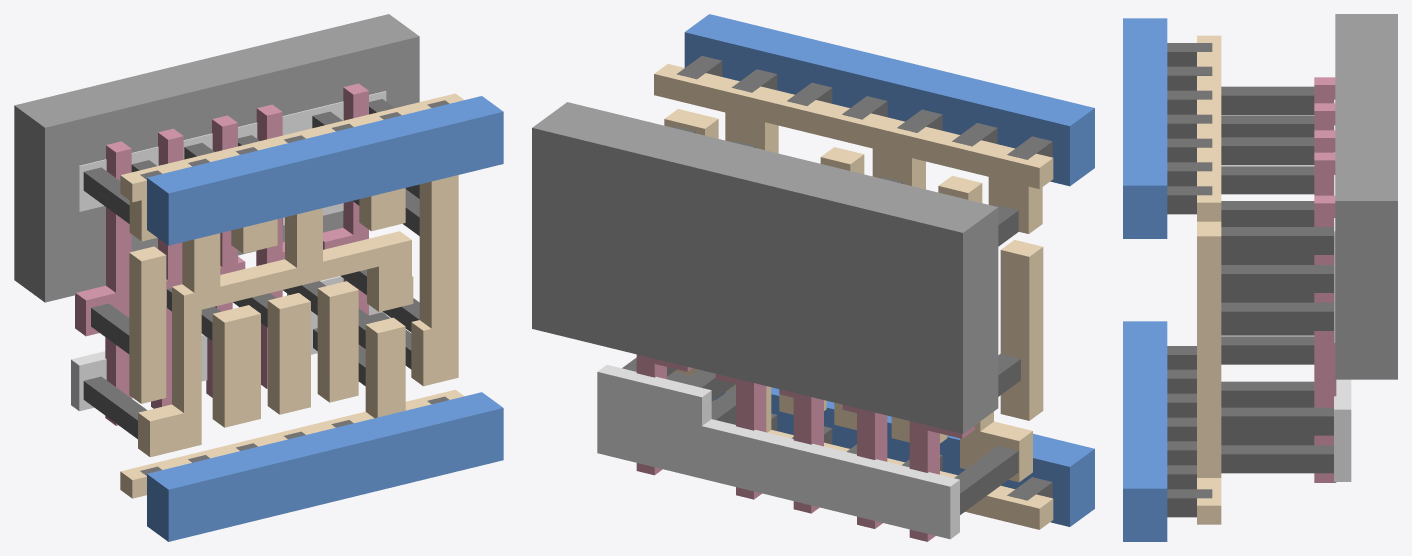
Rendered from sky130_fd_sc_hd__and4_1.gds.gltf.
3 renders of one model, left to right at view 1: azimuth 30°, elevation 25°; view 2: azimuth 150°, elevation 25°; view 3: azimuth 270°, elevation 25°, orthographic. The views are drawn at different scales.
Parts seen in each view (by area): view 1: sky130_fd_sc_hd__and4_1_li1, sky130_fd_sc_hd__and4_1_met1, sky130_fd_sc_hd__and4_1_nwell, sky130_fd_sc_hd__and4_1_poly, sky130_fd_sc_hd__and4_1_licon, sky130_fd_sc_hd__and4_1_diff, sky130_fd_sc_hd__and4_1_mcon; view 2: sky130_fd_sc_hd__and4_1_nwell, sky130_fd_sc_hd__and4_1_li1, sky130_fd_sc_hd__and4_1_met1, sky130_fd_sc_hd__and4_1_diff, sky130_fd_sc_hd__and4_1_poly, sky130_fd_sc_hd__and4_1_mcon, sky130_fd_sc_hd__and4_1_licon; view 3: sky130_fd_sc_hd__and4_1_licon, sky130_fd_sc_hd__and4_1_nwell, sky130_fd_sc_hd__and4_1_met1, sky130_fd_sc_hd__and4_1_mcon, sky130_fd_sc_hd__and4_1_li1, sky130_fd_sc_hd__and4_1_poly, sky130_fd_sc_hd__and4_1_diff.
Boxes of the visible parts, <box> form: sky130_fd_sc_hd__and4_1_li1: <box>120,93,463,498</box>; sky130_fd_sc_hd__and4_1_met1: <box>147,96,503,541</box>; sky130_fd_sc_hd__and4_1_nwell: <box>14,14,419,302</box>; sky130_fd_sc_hd__and4_1_poly: <box>75,83,368,425</box>; sky130_fd_sc_hd__and4_1_licon: <box>83,99,419,438</box>; sky130_fd_sc_hd__and4_1_diff: <box>71,91,386,411</box>; sky130_fd_sc_hd__and4_1_mcon: <box>140,100,449,475</box>; sky130_fd_sc_hd__and4_1_nwell: <box>532,102,998,433</box>; sky130_fd_sc_hd__and4_1_li1: <box>654,64,1053,529</box>; sky130_fd_sc_hd__and4_1_met1: <box>684,14,1094,526</box>; sky130_fd_sc_hd__and4_1_diff: <box>597,364,959,539</box>; sky130_fd_sc_hd__and4_1_poly: <box>636,354,974,541</box>; sky130_fd_sc_hd__and4_1_mcon: <box>677,56,1052,500</box>; sky130_fd_sc_hd__and4_1_licon: <box>622,126,1020,514</box>; sky130_fd_sc_hd__and4_1_licon: <box>1221,86,1333,473</box>; sky130_fd_sc_hd__and4_1_nwell: <box>1335,14,1397,379</box>; sky130_fd_sc_hd__and4_1_met1: <box>1123,18,1167,541</box>; sky130_fd_sc_hd__and4_1_mcon: <box>1167,43,1212,517</box>; sky130_fd_sc_hd__and4_1_li1: <box>1197,35,1221,524</box>; sky130_fd_sc_hd__and4_1_poly: <box>1314,77,1336,482</box>; sky130_fd_sc_hd__and4_1_diff: <box>1334,99,1351,481</box>.
Bounding box in the file's own units: 3.6 × 3.2 × 2.24.
